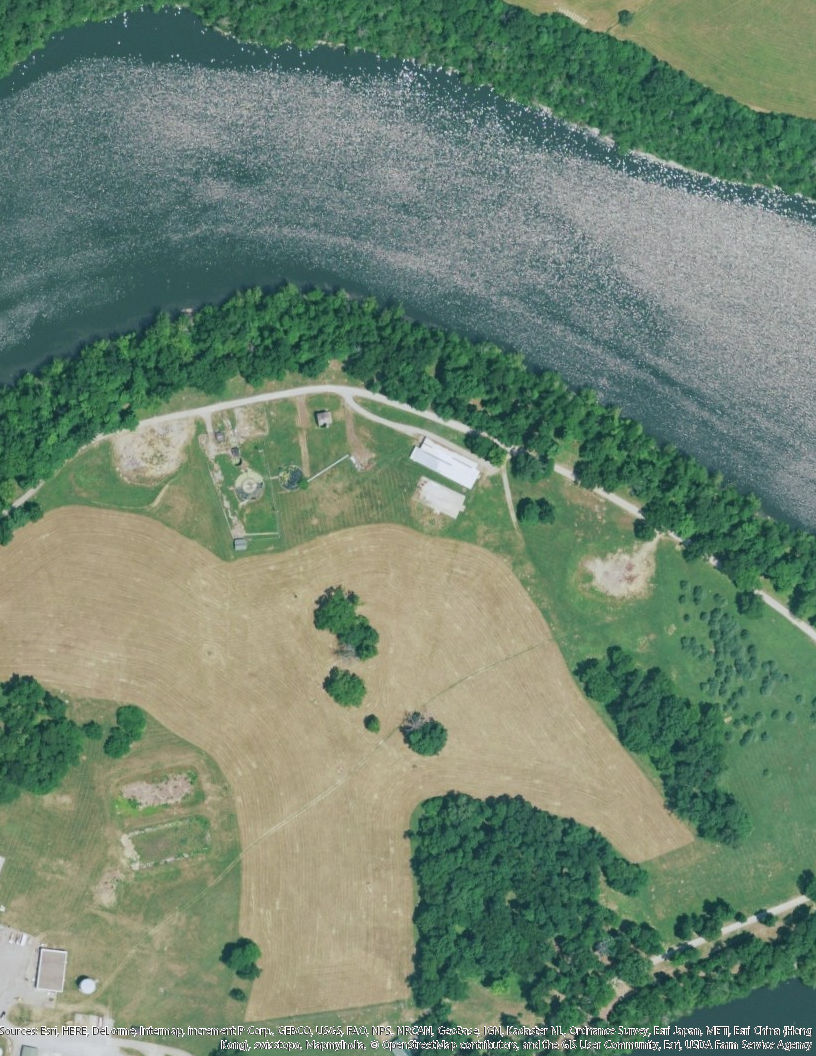cafo: (405, 433, 489, 494)
